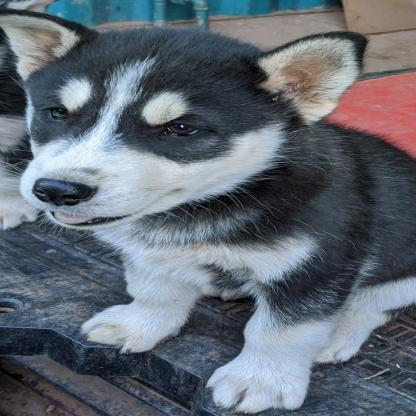dog: (4, 10, 416, 416)
